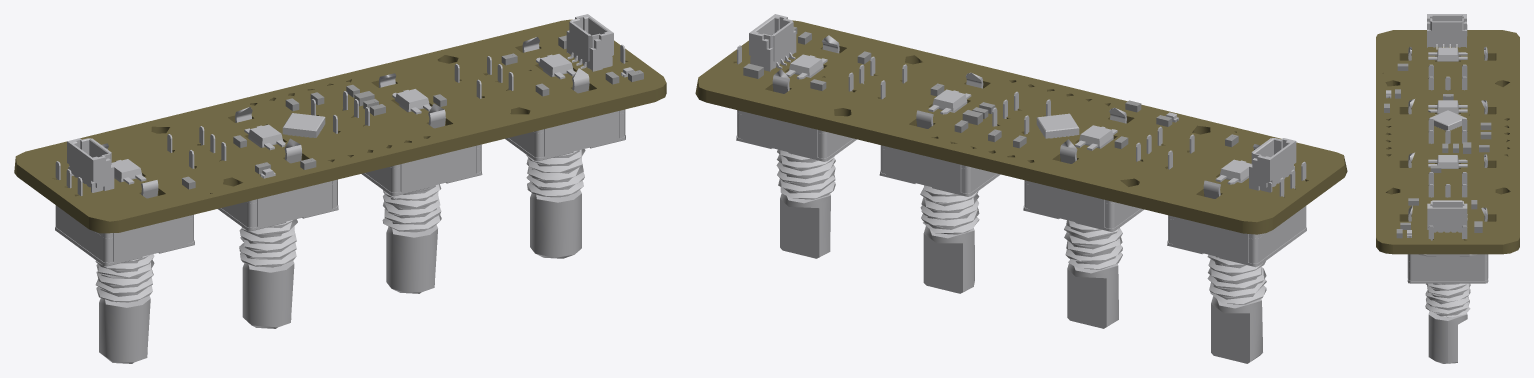
The model's file is ada-5752.glb.
3 renders of one model, left to right at view 1: azimuth 30°, elevation 25°; view 2: azimuth 150°, elevation 25°; view 3: azimuth 270°, elevation 25°, orthographic. The views are drawn at different scales.
Visible parts, largest first — view 1: 0.16666666666666666_0.16666666666666666_0.08333333333333333_, 0.5833333333333334_0.5833333333333334_0.5833333333333334_0.8, 0.3333333333333333_0.3333333333333333_0.3333333333333333_0; view 2: 0.16666666666666666_0.16666666666666666_0.08333333333333333_, 0.5833333333333334_0.5833333333333334_0.5833333333333334_0.8, 0.3333333333333333_0.3333333333333333_0.3333333333333333_0; view 3: 0.16666666666666666_0.16666666666666666_0.08333333333333333_, 0.5833333333333334_0.5833333333333334_0.5833333333333334_0.8, 0.3333333333333333_0.3333333333333333_0.3333333333333333_0.
Part boxes in pixels (x1=…): 0.16666666666666666_0.16666666666666666_0.08333333333333333_: x1=14, y1=19, x2=666, y2=233; 0.5833333333333334_0.5833333333333334_0.5833333333333334_0.8: x1=55, y1=14, x2=634, y2=363; 0.3333333333333333_0.3333333333333333_0.3333333333333333_0: x1=182, y1=35, x2=643, y2=189; 0.16666666666666666_0.16666666666666666_0.08333333333333333_: x1=695, y1=20, x2=1347, y2=234; 0.5833333333333334_0.5833333333333334_0.5833333333333334_0.8: x1=736, y1=14, x2=1306, y2=363; 0.3333333333333333_0.3333333333333333_0.3333333333333333_0: x1=743, y1=27, x2=1238, y2=148; 0.16666666666666666_0.16666666666666666_0.08333333333333333_: x1=1376, y1=30, x2=1519, y2=254; 0.5833333333333334_0.5833333333333334_0.5833333333333334_0.8: x1=1386, y1=14, x2=1488, y2=363; 0.3333333333333333_0.3333333333333333_0.3333333333333333_0: x1=1384, y1=63, x2=1491, y2=238.
Bounding box in the file's own units: 7.62 × 2.73 × 2.16.
